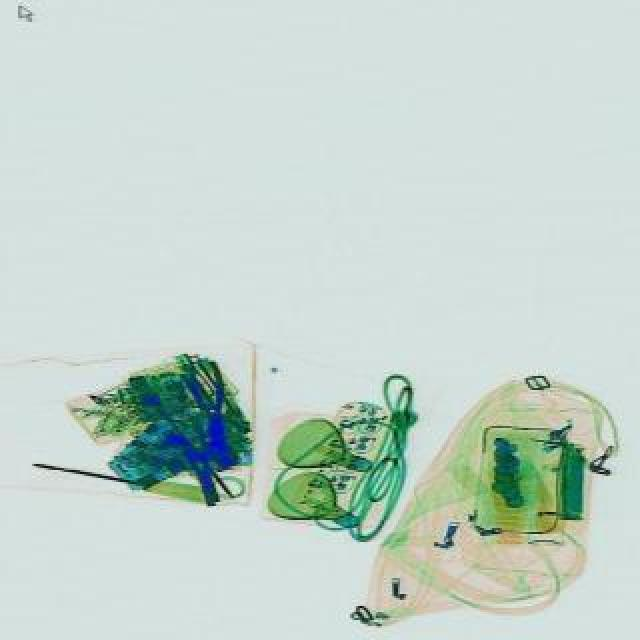wrench: (184, 360, 238, 444)
